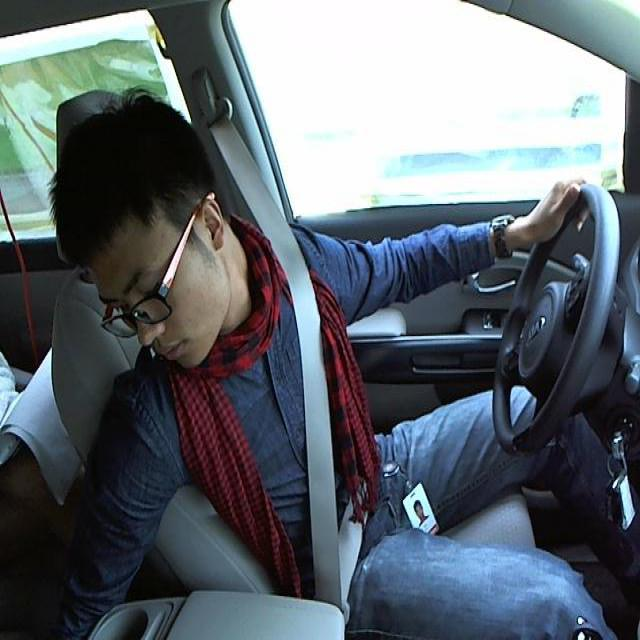seatbelt: (268, 247, 369, 610)
